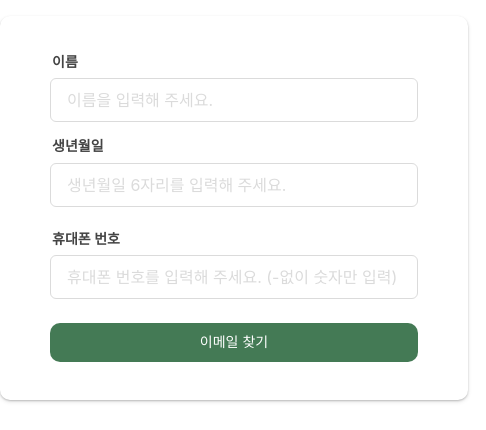
Test: 이메일 찾기 폼 테스트 › 각 인풋의 형식에 맞지 않는 값을 입력 후 포커스가 사라져 에러 메시지가 화면에 보일 때, 다시 인풋을 클릭하면 에러 메시지가 사라져야 한다.
The image size is (486, 430).
Type "홍" into the field labelled "이름". click: x=234, y=100
box: [50,78,418,122]
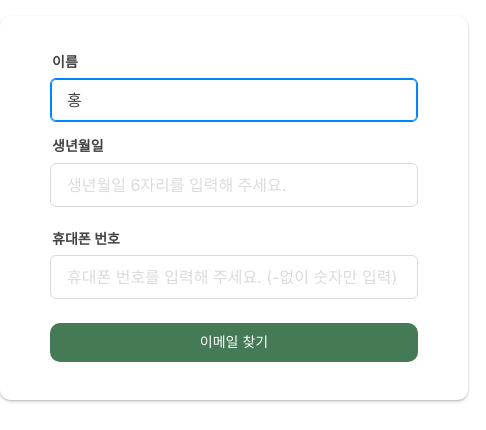
Click the form named "find-email". click: x=234, y=208
box: [0,16,468,400]
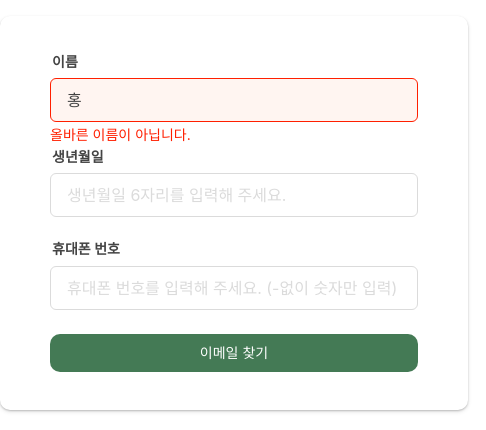
Click the field labelled "이름". click: x=234, y=100
box: [50,78,418,122]
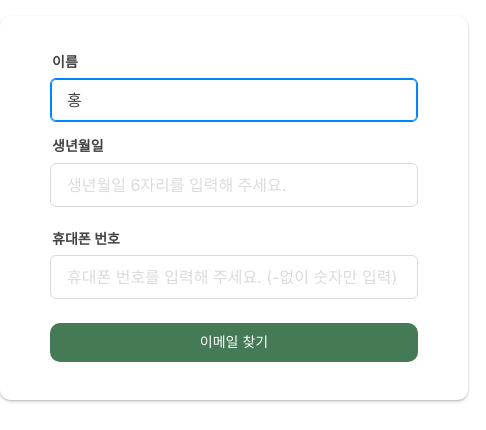
Expected: the text "올바른 이름이 아닙니다." is gone
